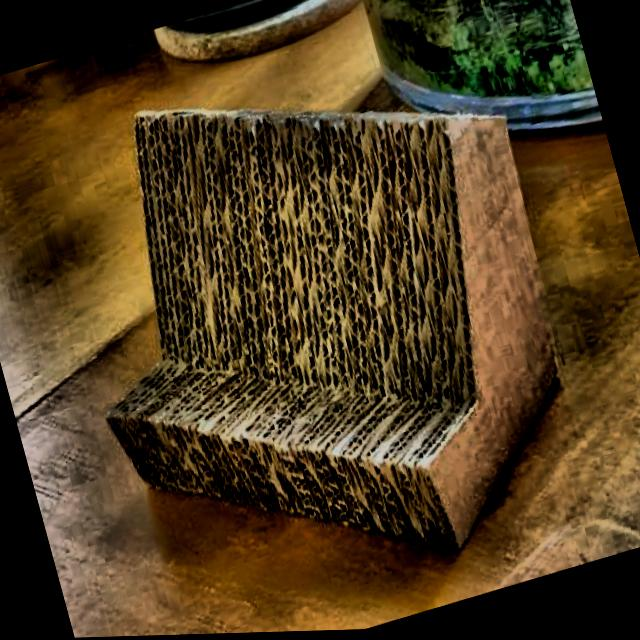Cardbox: (30, 6, 596, 639)
